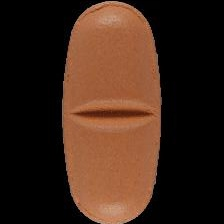52125-802: (0, 0, 224, 224)
